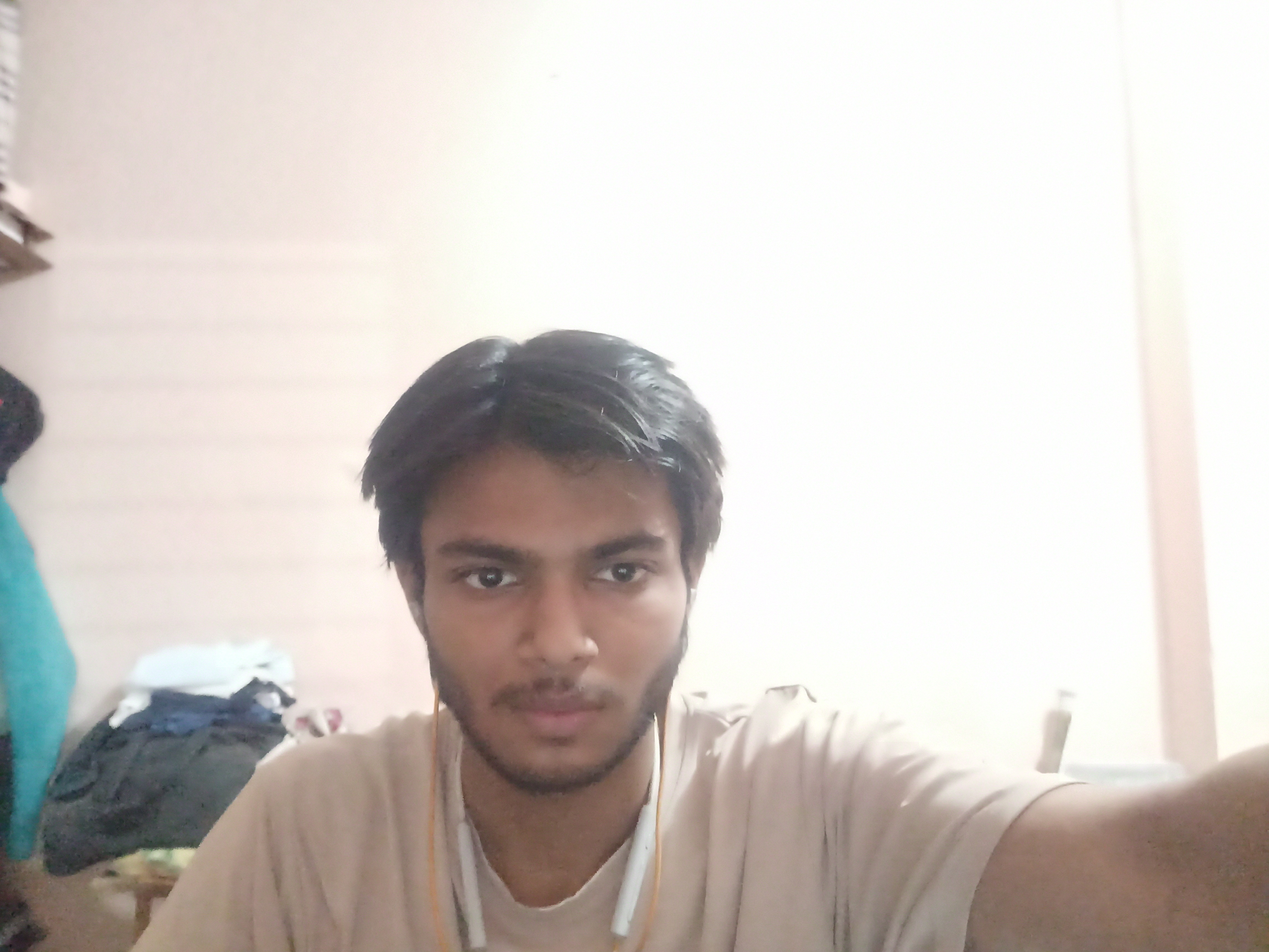Focused: (375, 346, 818, 866)
